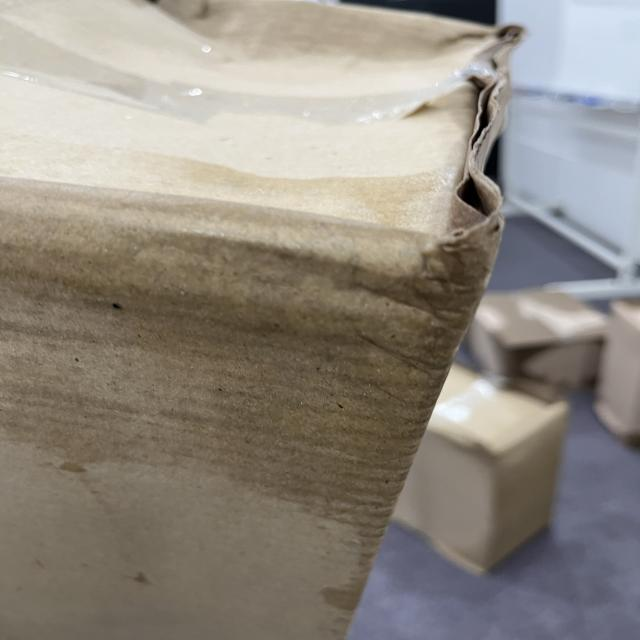hole: (439, 84, 508, 237)
wet: (23, 144, 491, 578)
